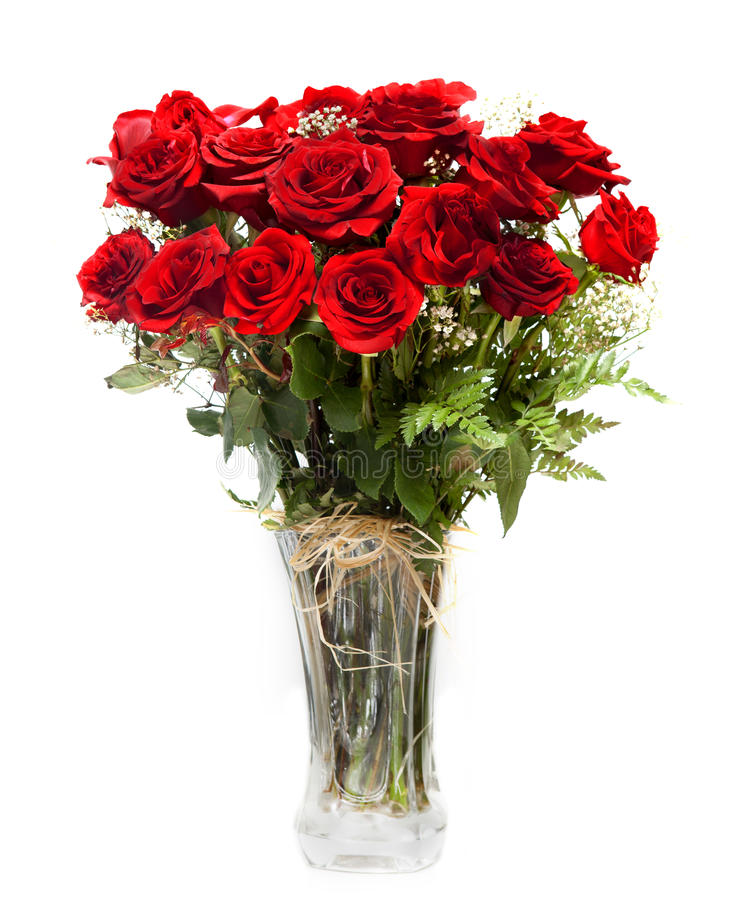RedRose: (265, 134, 413, 247), (309, 251, 431, 363), (388, 183, 512, 290), (358, 72, 492, 171), (90, 98, 202, 211), (129, 226, 237, 332), (523, 103, 628, 209), (223, 226, 324, 334), (459, 118, 561, 224), (478, 228, 582, 321), (195, 114, 299, 205), (62, 212, 147, 321), (575, 200, 671, 292), (267, 72, 372, 141)
